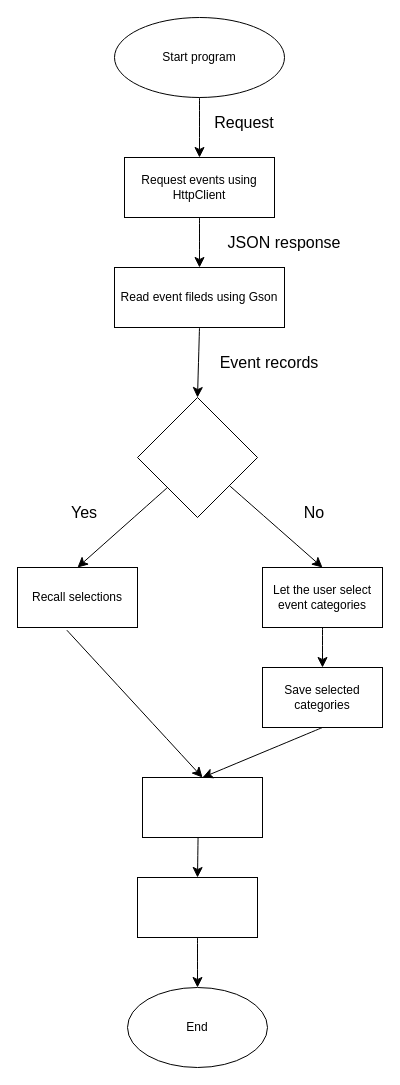
This 400x1085 diagram has some shape labels left out. Each missing label, with the box of its shape:
Display a short, readable list of upcoming matches: (136, 876, 258, 938)
Filter events using selected categories: (142, 776, 262, 838)
Saved categories exist?: (136, 396, 258, 518)
